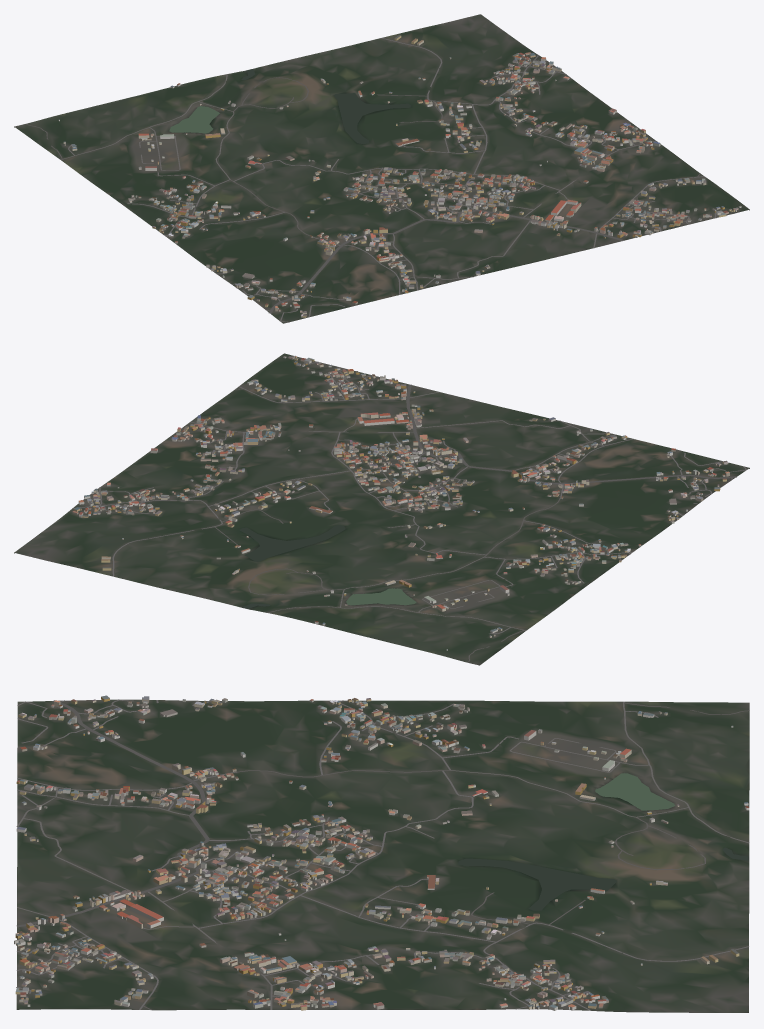
The picture shows the model from 3 angles, top to bottom: view 1: azimuth 30°, elevation 25°; view 2: azimuth 150°, elevation 25°; view 3: azimuth 270°, elevation 25°; orthographic projection. The views are drawn at different scales.
Visible parts, largest first — view 1: ground, buildings, roads, water; view 2: ground, buildings, roads, water; view 3: ground, buildings, roads, water.
Part boxes in pixels (x1,y1,x2,y2): ground: [14, 14, 749, 323]; buildings: [58, 35, 741, 317]; roads: [26, 38, 716, 322]; water: [169, 69, 410, 144]; ground: [14, 353, 749, 665]; buildings: [72, 355, 729, 650]; roads: [72, 361, 746, 662]; water: [239, 525, 416, 608]; ground: [16, 699, 749, 1012]; buildings: [14, 695, 749, 1010]; roads: [16, 699, 749, 1010]; water: [458, 773, 748, 910].
Size of the model in its own units: 1414 by 21.11 by 1409.
